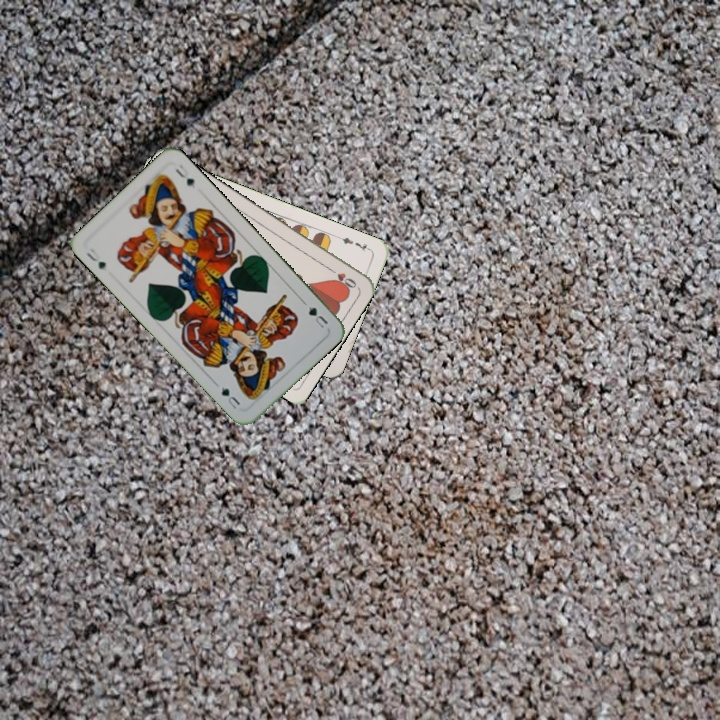E7: (334, 233, 373, 254)
GU: (304, 302, 331, 331), (82, 244, 108, 273)
HO: (323, 263, 359, 291)
